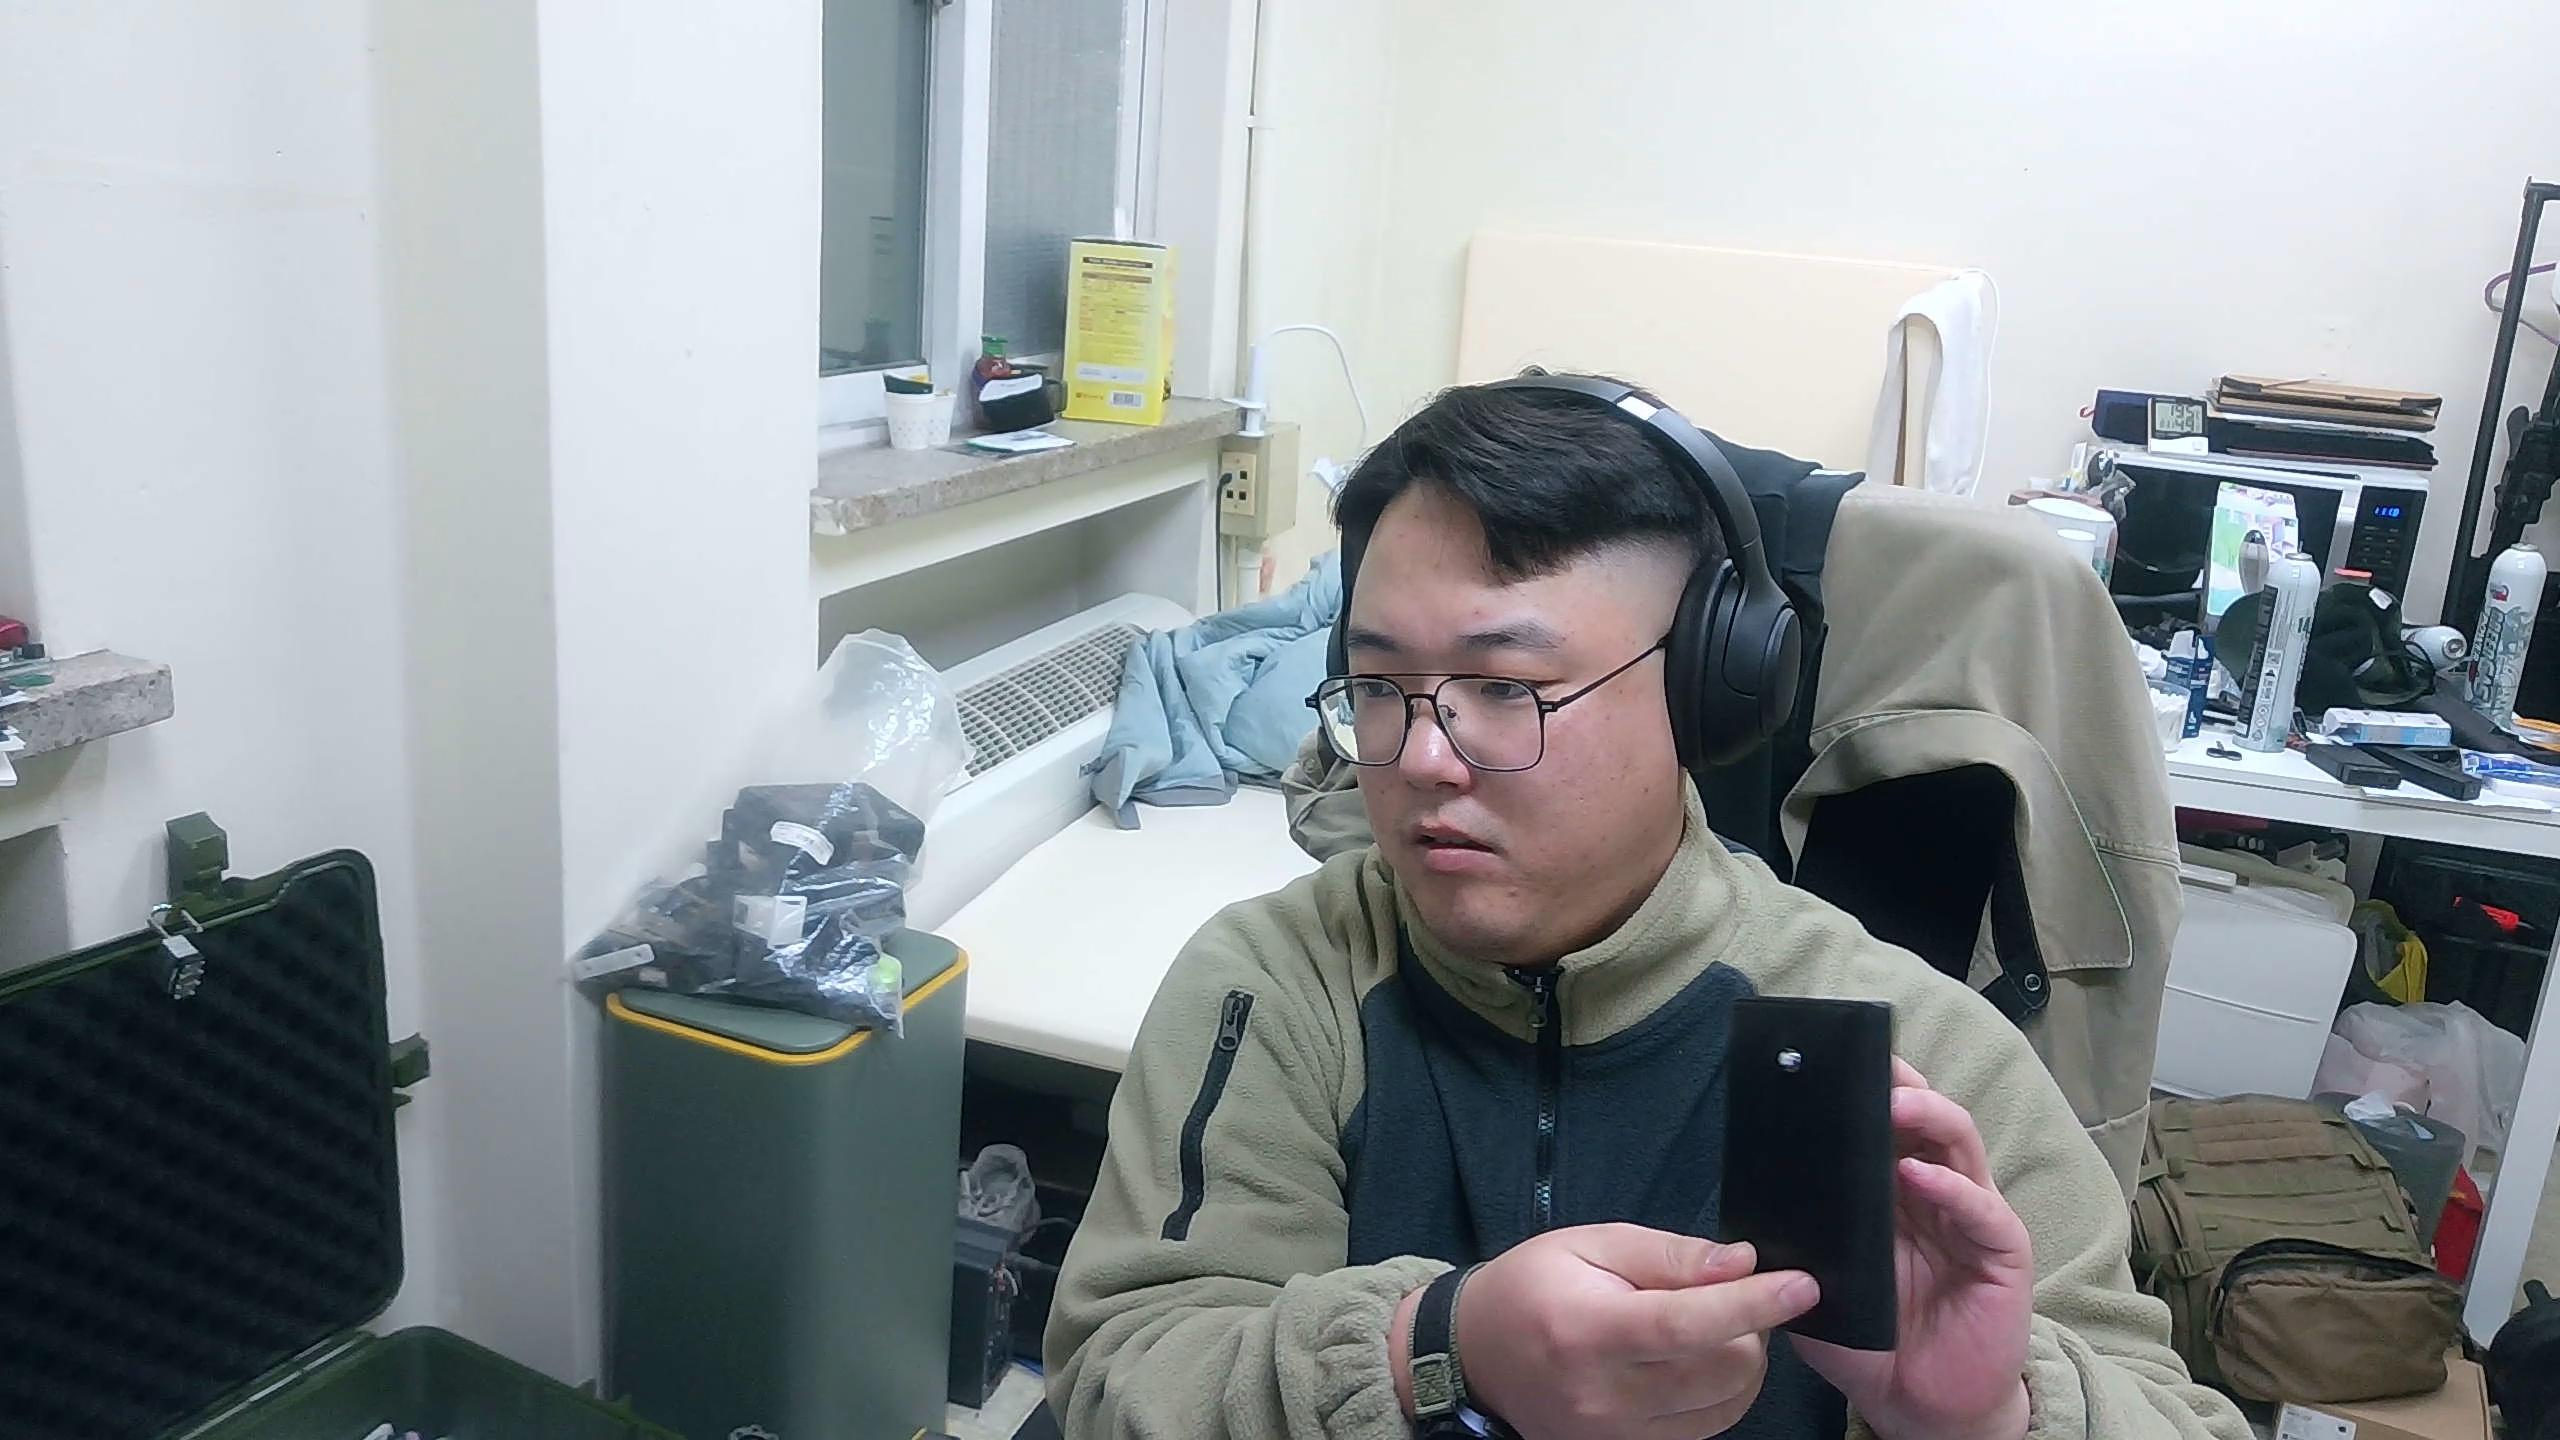earphone: (1720, 993, 1904, 1354)
